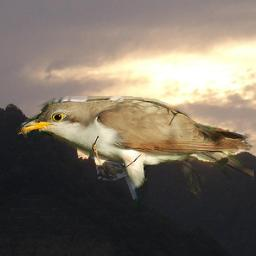Cuckoo: (16, 96, 254, 209)
